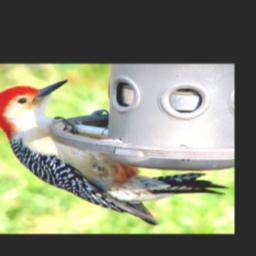Woodpecker: (0, 80, 229, 227)
